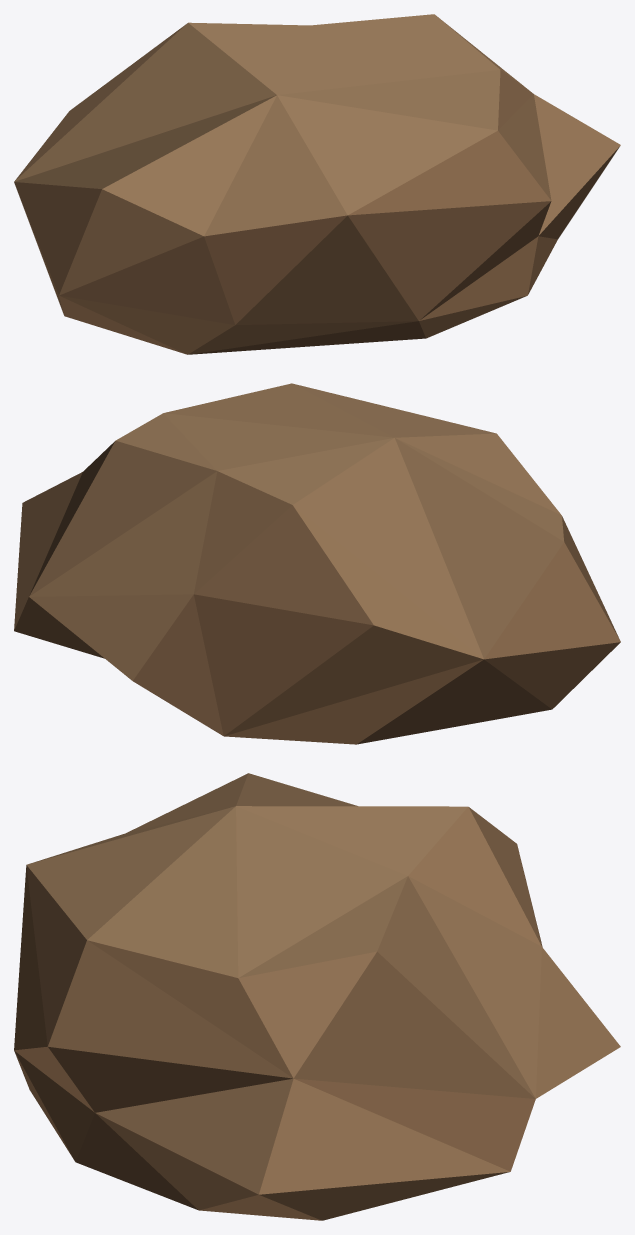
File: RockA.glb
3 views of the same model, one above another, from view 1: azimuth 30°, elevation 25°; view 2: azimuth 150°, elevation 25°; view 3: azimuth 270°, elevation 25° (orthographic). The views are drawn at different scales.
Parts seen in each view (by area): view 1: RockA.001; view 2: RockA.001; view 3: RockA.001.
Part boxes in pixels (x1,y1,x2,y2): RockA.001: (14, 14, 620, 354); RockA.001: (14, 383, 620, 744); RockA.001: (14, 773, 620, 1220).
Size of the model in its own units: 1.12 by 0.3734 by 0.8313.
